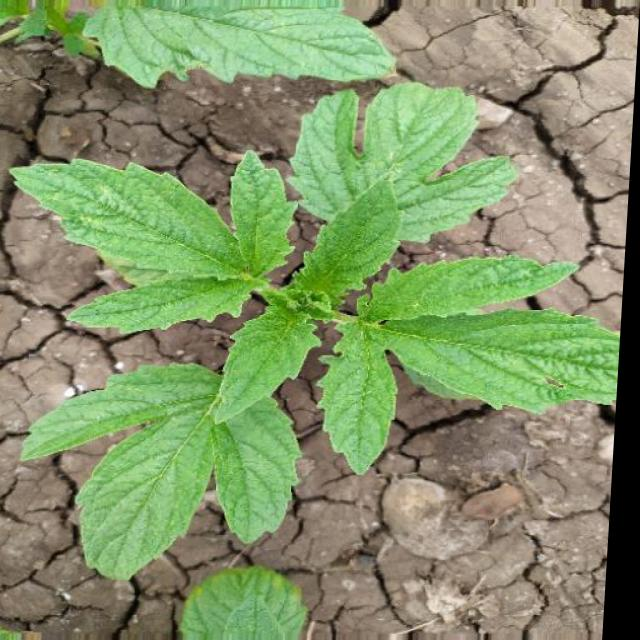crop: (0, 77, 636, 575)
